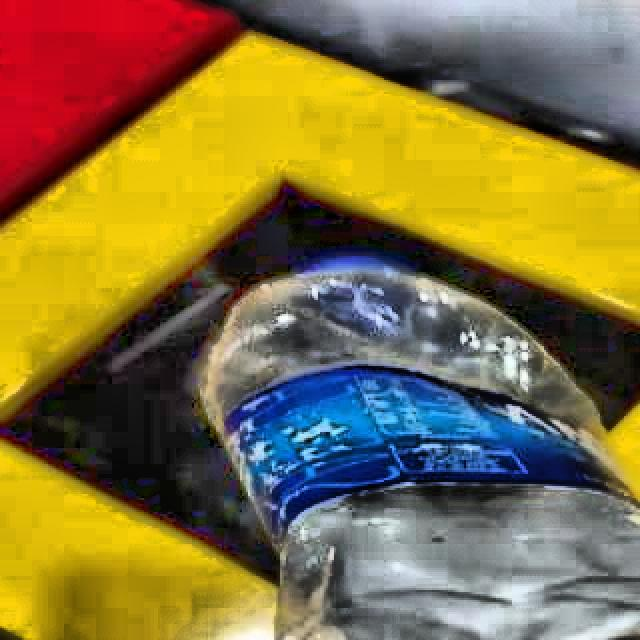plastic: (196, 254, 640, 640)
